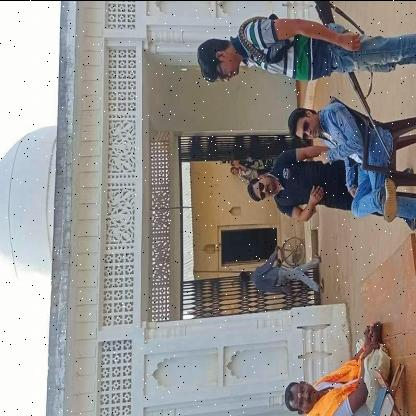rifle: (313, 1, 395, 165)
